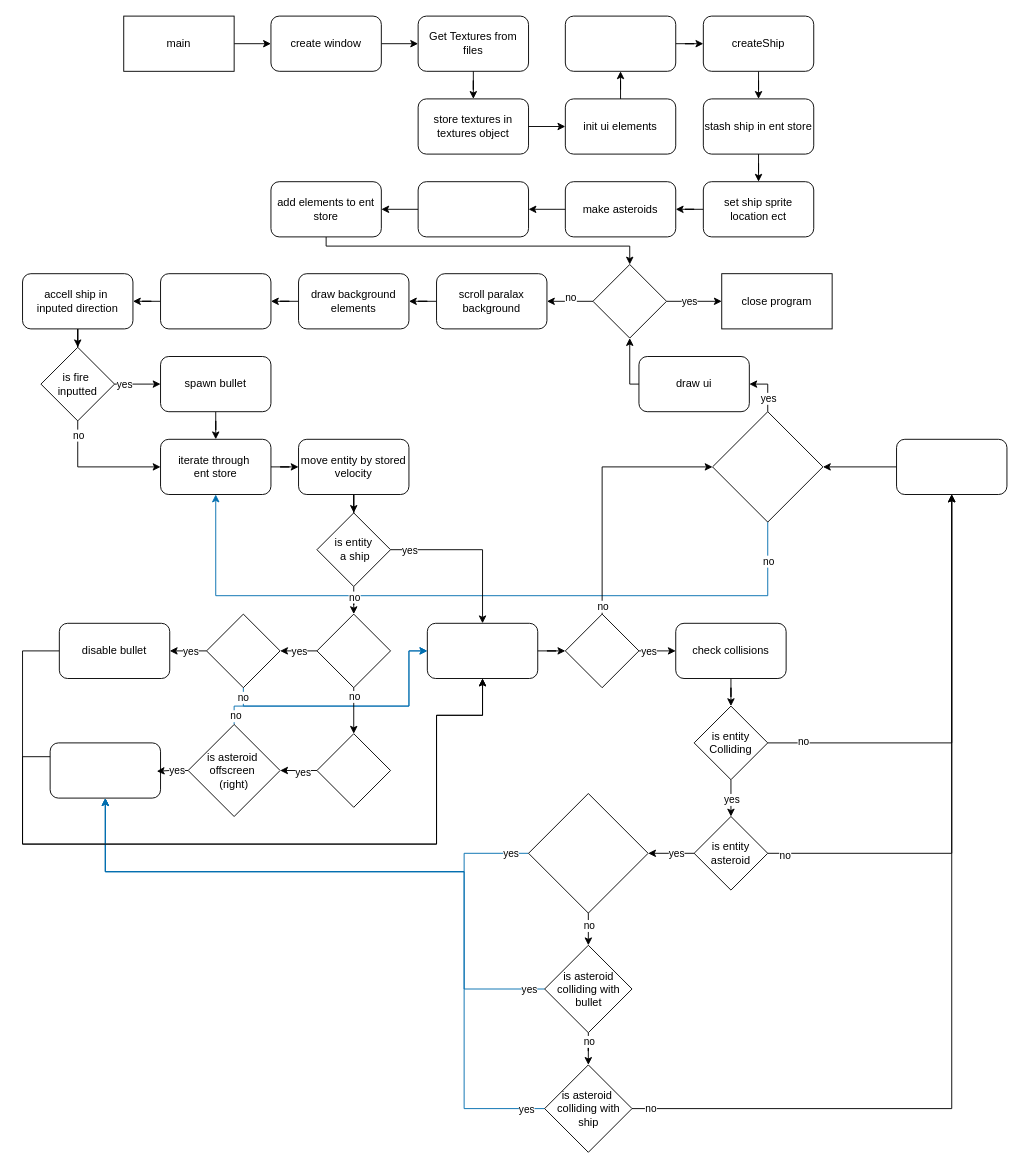
This 1023x1168 diagram has some shape labels left out. The box of each missing label's shape, as (x1, y1, x2, y2) in pixels:
are all entitites iterated through: (712, 411, 823, 522)
check inputted direct: (160, 273, 271, 329)
draw entity: (896, 438, 1007, 494)
ensure entity is within bounds: (426, 622, 538, 678)
esc pressed?: (592, 264, 667, 338)
init ent store: (564, 15, 676, 71)
is bullet offscreen (right): (206, 613, 280, 688)
is colliding with another asteroid and just spawned: (528, 793, 648, 913)
is entity a bullet: (316, 613, 391, 688)
is entity active: (564, 613, 639, 688)
is entity an astroid: (316, 733, 391, 807)
make bullets: (417, 181, 529, 237)
respawn aste roid: (49, 742, 161, 798)
